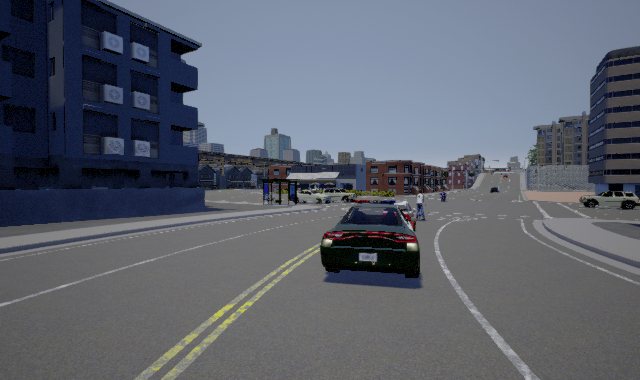pedestrian: (414, 190, 426, 221)
vehicle: (319, 201, 420, 278), (579, 191, 640, 210), (321, 187, 357, 201), (294, 188, 327, 203), (490, 186, 500, 194)
